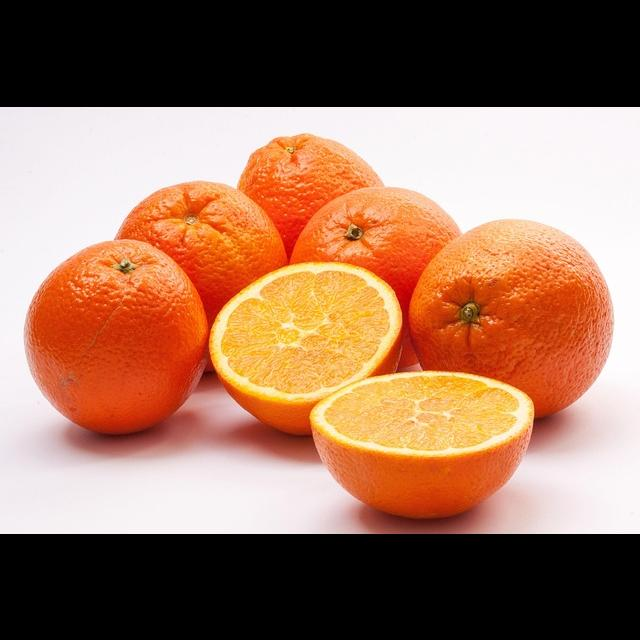orange: (400, 206, 640, 425), (2, 230, 225, 449), (206, 259, 420, 446), (308, 352, 536, 521), (278, 161, 498, 325), (117, 159, 289, 345), (229, 127, 403, 290), (308, 352, 318, 357)
